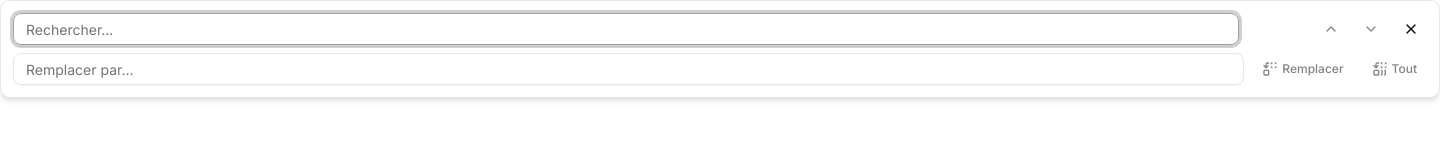
Test: SearchReplaceBar › should show 0/0 when no matches found
In the field with placeholder "Rechercher...": [626, 29] box [13,13,1239,45], type "xyz"
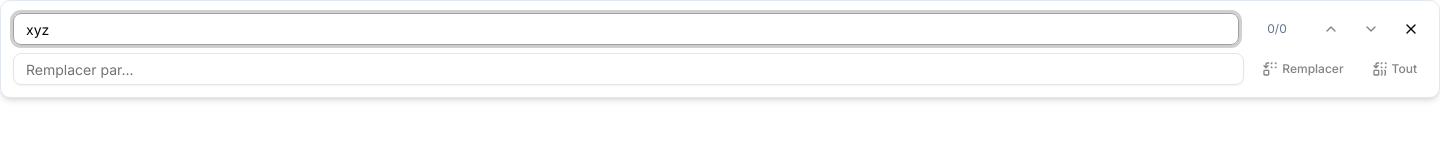
Expected: the text "0/0" is shown, [1267,21,1287,36]
